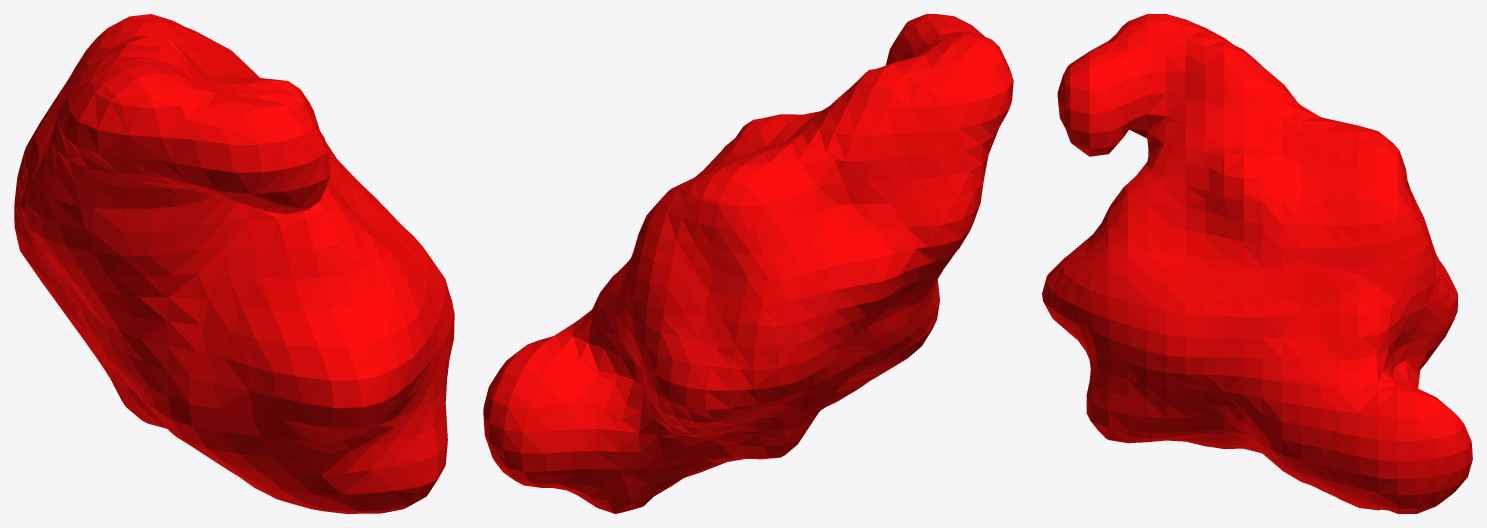
The model's file is csrA_coarse.dae.
The picture shows the model from 3 angles, left to right: view 1: azimuth 30°, elevation 25°; view 2: azimuth 150°, elevation 25°; view 3: azimuth 270°, elevation 25°; orthographic projection. The views are drawn at different scales.
Parts seen in each view (by area): view 1: csrA; view 2: csrA; view 3: csrA.
Boxes of the visible parts, bbox=[...] form: csrA: bbox=[14, 14, 454, 513]; csrA: bbox=[483, 14, 1013, 513]; csrA: bbox=[1042, 14, 1472, 513].
Bounding box in the file's own units: 41.46 × 45.09 × 45.15.
